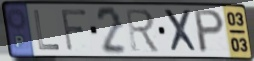2: (95, 5, 130, 57)
F: (60, 8, 89, 54)
L: (32, 9, 62, 52)
P: (193, 8, 226, 55)
R: (124, 8, 162, 55)
X: (162, 8, 201, 55)
